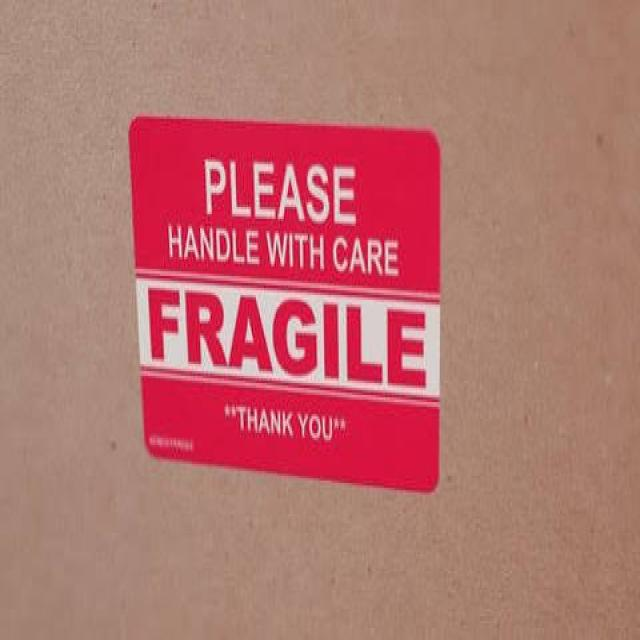carton_box: (0, 4, 640, 640)
fragile_label: (131, 255, 450, 412)
handle_with_care_label: (141, 138, 428, 294)
